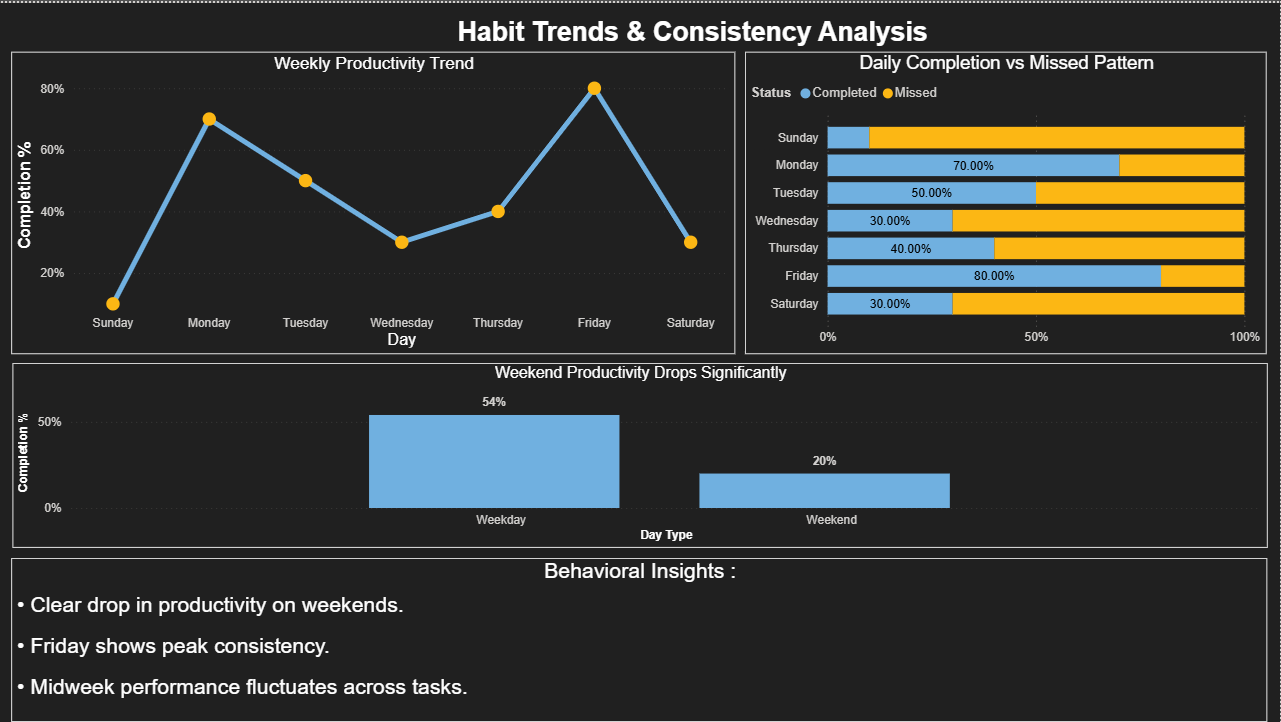

The dashboard page shown, as its layout file describes it:
{"tool":"powerbi","page":{"name":"Page 2","canvas":[1280,730],"ordinal":1},"visuals":[{"type":"lineChart","title":"Weekly Productivity Trend","fields":{"Y":["productivity_data.Completion %"],"Category":["productivity_data.day"]},"box":[11.5,48.7,724.4,302.6],"z":0},{"type":"hundredPercentStackedBarChart","title":"Daily Completion vs Missed Pattern","fields":{"Category":["productivity_data.day"],"Y":["CountNonNull(productivity_data.t_status)"],"Series":["productivity_data.Status"]},"box":[744.9,48.7,521.8,302.6],"z":1000},{"type":"clusteredColumnChart","title":"Weekend Productivity Drops Significantly","fields":{"Y":["productivity_data.Completion %"],"Category":["productivity_data.Day Type"]},"box":[12.5,360,1255,185],"z":2000},{"type":"textbox","title":"Behavioral Insights : ","box":[11.2,555,1256.2,163.8],"z":3000},{"type":"textbox","box":[227.5,8.8,930,40],"z":4000}]}

Visuals, with their boxes in screenshot pixels (x1, y1, x2, y2), scaled from the page's 1280x730 canvas onto the 1281x722 screenshot:
"Weekly Productivity Trend" lineChart: <bbox>12, 48, 736, 347</bbox>
"Daily Completion vs Missed Pattern" hundredPercentStackedBarChart: <bbox>745, 48, 1268, 347</bbox>
"Weekend Productivity Drops Significantly" clusteredColumnChart: <bbox>13, 356, 1268, 539</bbox>
"Behavioral Insights : " textbox: <bbox>11, 549, 1268, 711</bbox>
textbox: <bbox>228, 9, 1158, 48</bbox>
